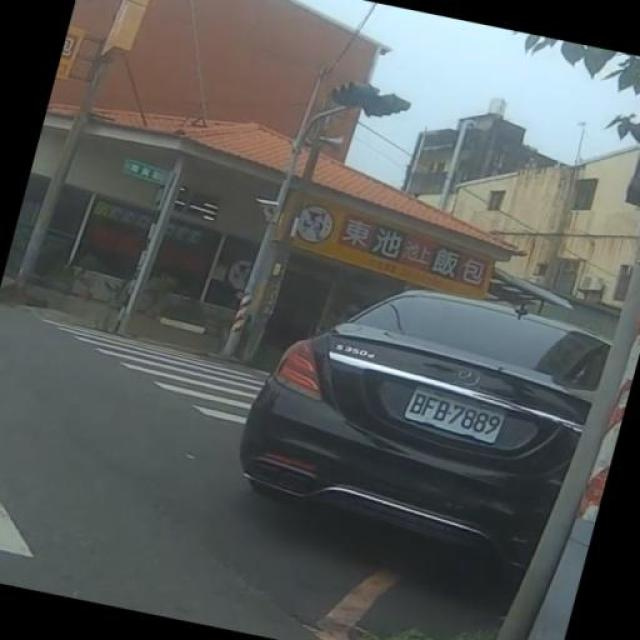illegalparking: (230, 244, 614, 598)
